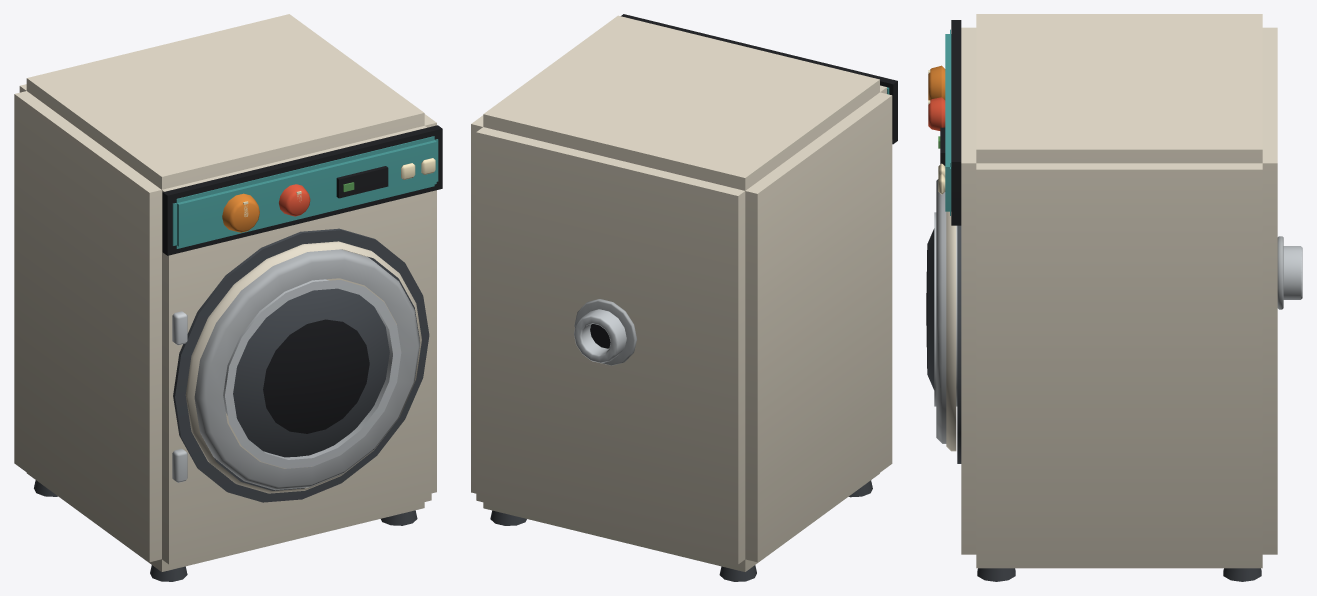
The model's file is Dryer_Front_01.glb.
3 views of the same model, side by side, from view 1: azimuth 30°, elevation 25°; view 2: azimuth 150°, elevation 25°; view 3: azimuth 270°, elevation 25° (orthographic). The views are drawn at different scales.
Parts seen in each view (by area): view 1: SM_Dryer_Front_01; view 2: SM_Dryer_Front_01; view 3: SM_Dryer_Front_01.
Part boxes in pixels (left/top/right/bottom): SM_Dryer_Front_01: left=14, top=14, right=442, bottom=581; SM_Dryer_Front_01: left=471, top=14, right=897, bottom=581; SM_Dryer_Front_01: left=926, top=14, right=1302, bottom=581.
Bounding box in the file's own units: 0.7 × 0.95 × 0.75.
Materials: 1 (1 with a texture image).
